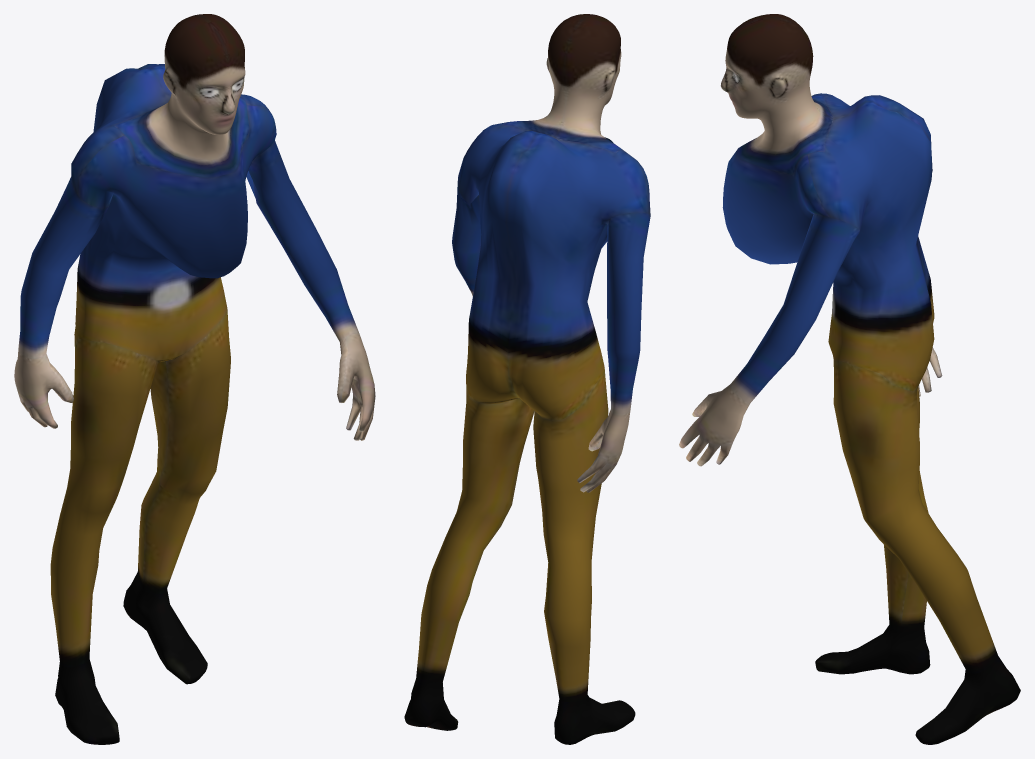
The model's file is sm_maleTwoHumps_pose_walk.fbx.
3 views of the same model, side by side, from view 1: azimuth 30°, elevation 25°; view 2: azimuth 150°, elevation 25°; view 3: azimuth 270°, elevation 25° (orthographic). The views are drawn at different scales.
Parts seen in each view (by area): view 1: sm_maleHunchback; view 2: sm_maleHunchback; view 3: sm_maleHunchback.
Part boxes in pixels (x1,y1,x2,y2): sm_maleHunchback: [14, 14, 375, 744]; sm_maleHunchback: [404, 14, 650, 744]; sm_maleHunchback: [679, 14, 1020, 744].
Size of the model in its own units: 64.82 by 178 by 79.35.
Materials: 1 (1 with a texture image).
